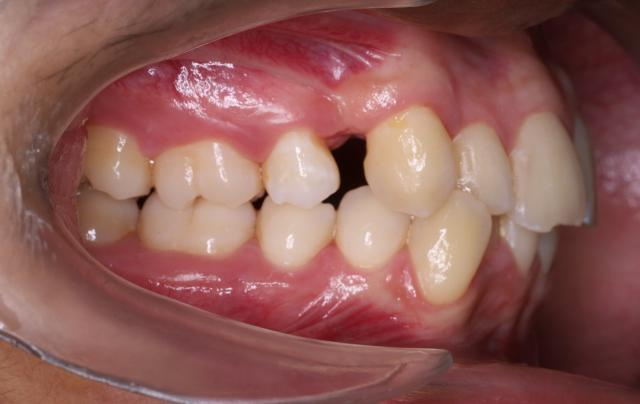canine class II 1/4: (334, 96, 494, 308)
molar class II 3/4: (132, 136, 268, 262)
